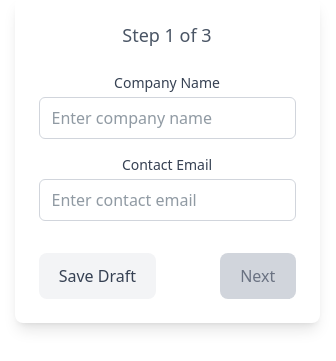
Test: Feature: Maritime Insurance Quote Request Wizard Step 1 Component › Scenario: Field validation triggers on blur › should validate email immediately on blur
In the field with test id "contact-email": x=167, y=200 x1=38 y1=179 x2=296 y2=221, type "invalid-email"
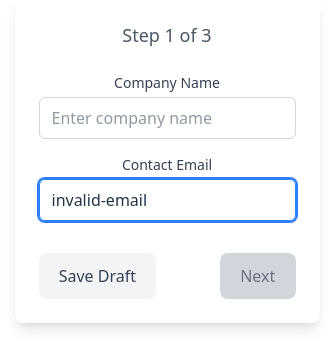
Press Tab
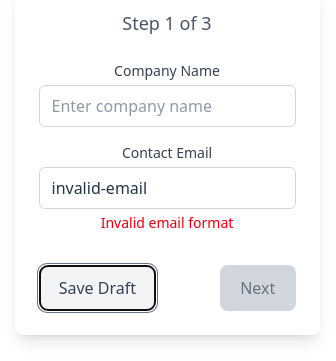
Check: the message "Invalid email format" is shown, box x1=101 y1=213 x2=233 y2=232
